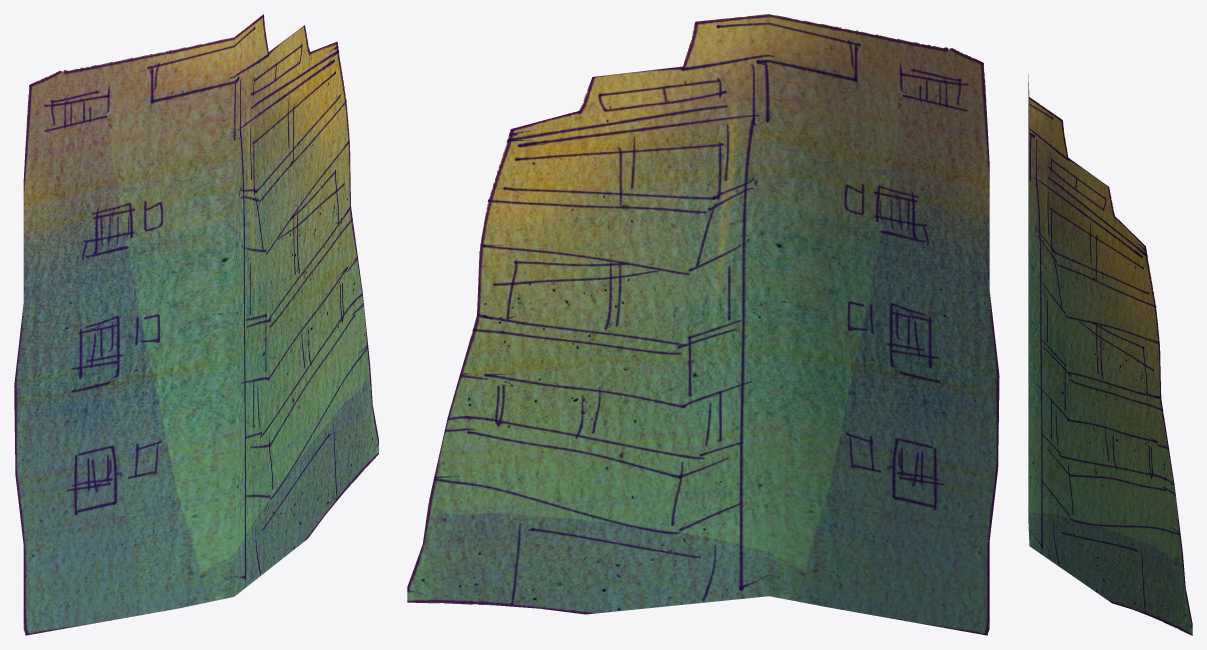
Rendered from 03_mid_bld_02.fbx.
3 renders of one model, left to right at view 1: azimuth 30°, elevation 25°; view 2: azimuth 150°, elevation 25°; view 3: azimuth 270°, elevation 25°, orthographic. The views are drawn at different scales.
Parts seen in each view (by area): view 1: 03_中_房子_02; view 2: 03_中_房子_02; view 3: 03_中_房子_02.
Boxes of the visible parts, box(x1,y1,x2,y2) form: 03_中_房子_02: box(14, 14, 378, 635); 03_中_房子_02: box(407, 14, 999, 635); 03_中_房子_02: box(1028, 74, 1192, 635).
Size of the model in its own units: 57.87 by 68.81 by 21.95.
Materials: 1 (1 with a texture image).
